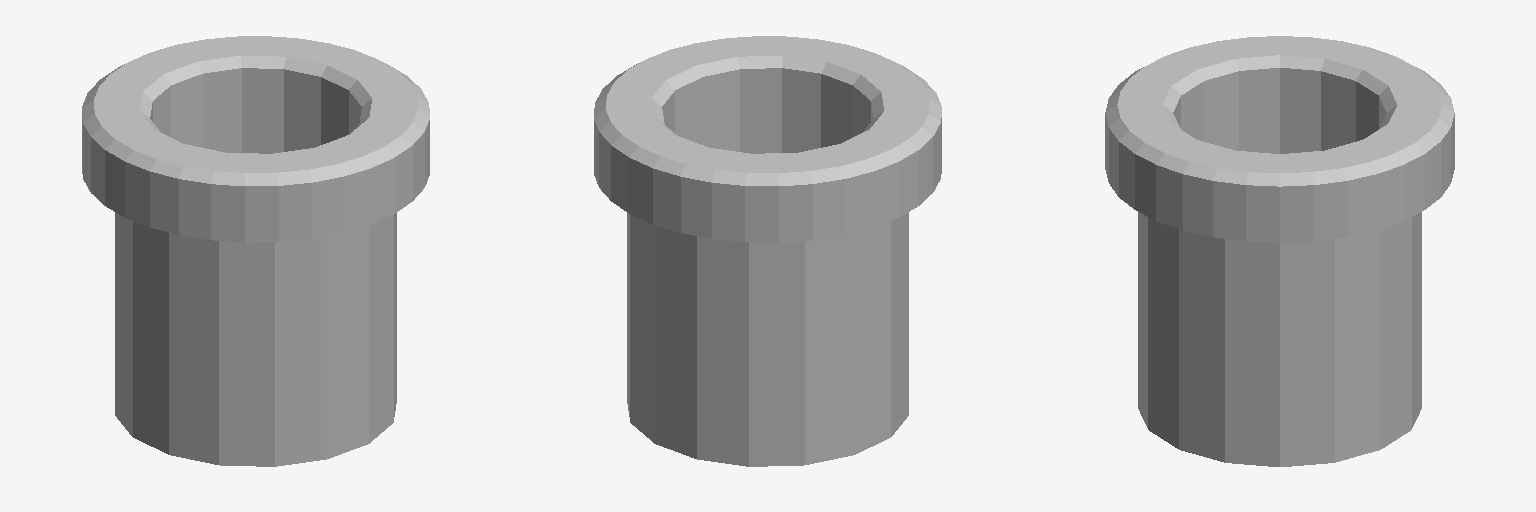
Rendered from pipe.obj.
3 renders of one model, left to right at view 1: azimuth 30°, elevation 25°; view 2: azimuth 150°, elevation 25°; view 3: azimuth 270°, elevation 25°, orthographic.
Visible parts, largest first — view 1: in.001; view 2: in.001; view 3: in.001.
Part boxes in pixels (x1,y1,x2,y2): in.001: (82,36,429,466); in.001: (594,36,941,466); in.001: (1105,36,1454,466).
Size of the model in its own units: 1.16 by 1.1 by 1.16.